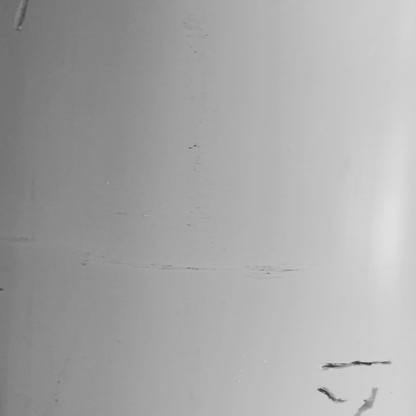fengxi: (316, 358, 392, 369), (354, 387, 381, 416), (314, 386, 347, 404)
sunshang: (11, 1, 31, 32)
